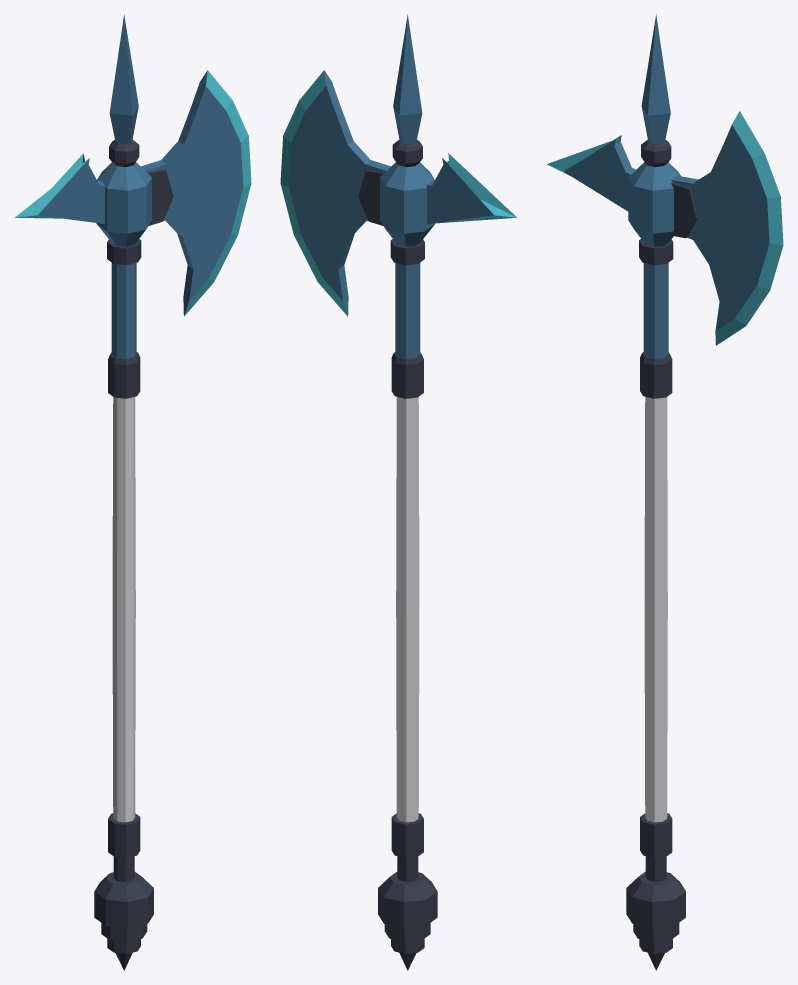
Rendered from polearm-d46232.glb.
3 renders of one model, left to right at view 1: azimuth 30°, elevation 25°; view 2: azimuth 150°, elevation 25°; view 3: azimuth 330°, elevation 25°, orthographic.
Visible parts, largest first — view 1: head-metal, haft-matte, haft-metal; view 2: head-metal, haft-matte, haft-metal; view 3: head-metal, haft-matte, haft-metal.
Boxes of the visible parts, <box> form: head-metal: <box>15,14,251,358</box>; haft-matte: <box>112,397,135,822</box>; haft-metal: <box>94,352,153,970</box>; head-metal: <box>280,14,517,358</box>; haft-matte: <box>396,397,419,822</box>; haft-metal: <box>378,352,437,970</box>; head-metal: <box>547,14,783,358</box>; haft-matte: <box>644,397,667,822</box>; haft-metal: <box>626,352,685,970</box>.
Bounding box in the file's own units: 0.5184 × 2 × 0.1053.
